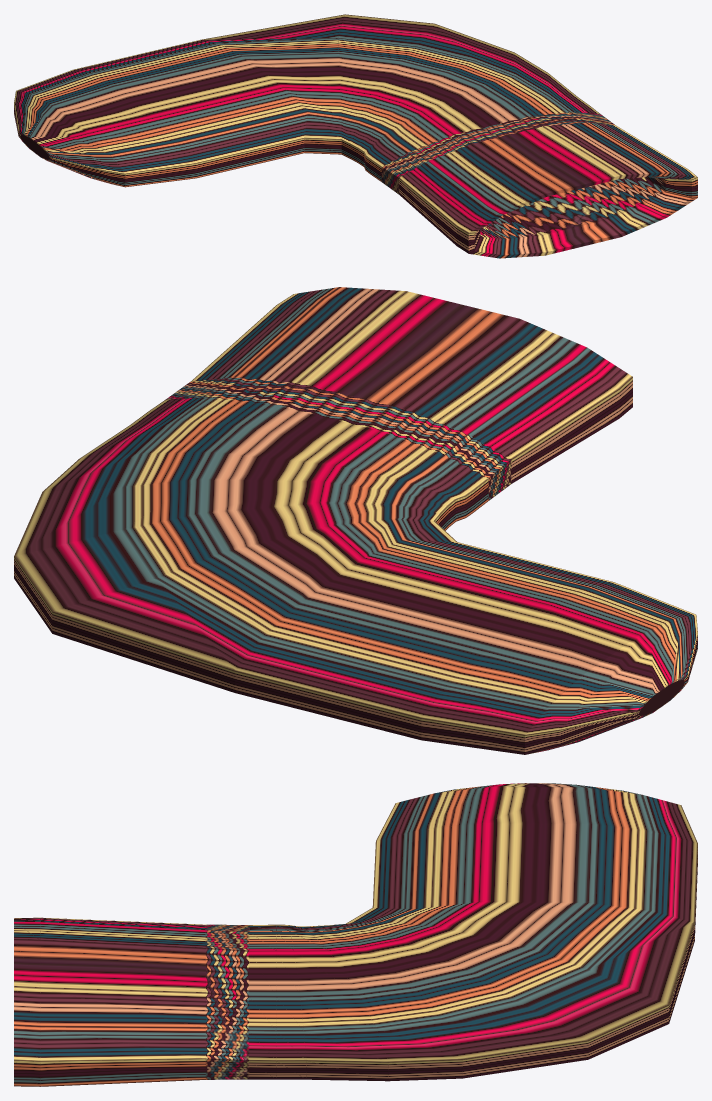
File: calcetin3.fbx
3 views of the same model, one above another, from view 1: azimuth 30°, elevation 25°; view 2: azimuth 150°, elevation 25°; view 3: azimuth 270°, elevation 25° (orthographic). The views are drawn at different scales.
Visible parts, largest first — view 1: sock:Mesh; view 2: sock:Mesh; view 3: sock:Mesh.
Boxes of the visible parts, box(x1,y1,x2,y2) form: sock:Mesh: box(14, 14, 697, 258); sock:Mesh: box(14, 287, 697, 754); sock:Mesh: box(14, 783, 697, 1086).
Bounding box in the file's own units: 6.42 × 0.8268 × 6.54.
Materials: 1 (1 with a texture image).
